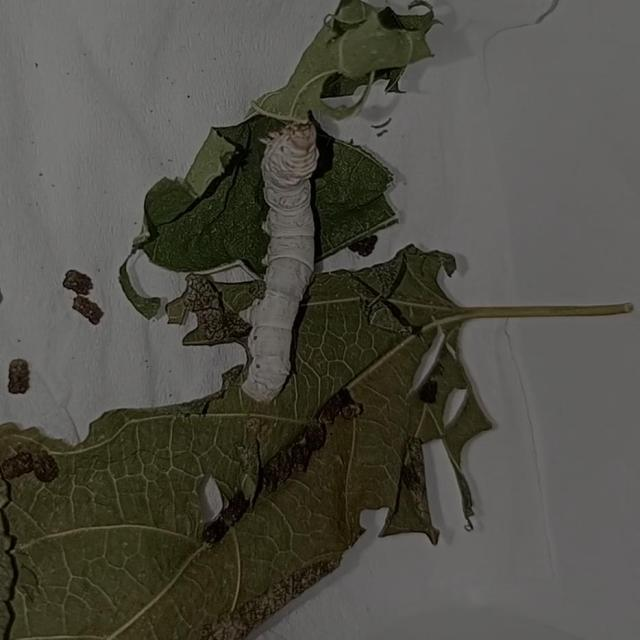Healthy: (180, 89, 422, 446)
